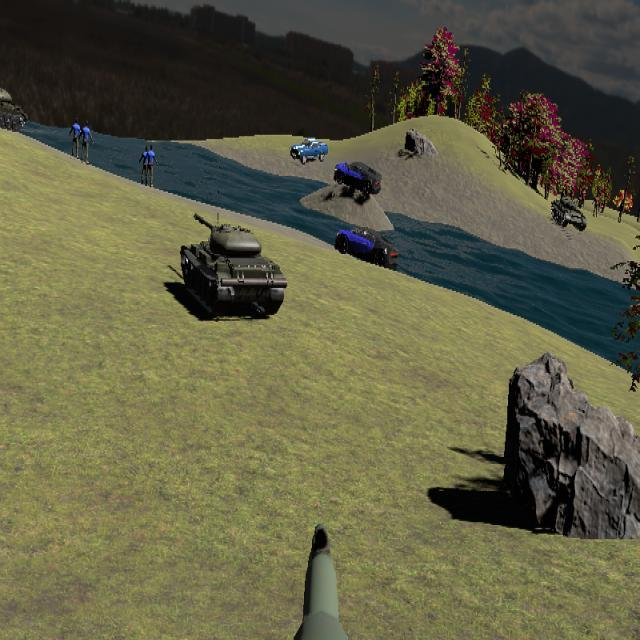Tank: (180, 214, 287, 318), (0, 83, 29, 133), (0, 86, 29, 134), (551, 196, 588, 232)
car: (334, 223, 398, 270), (334, 160, 382, 195), (290, 137, 329, 165)
